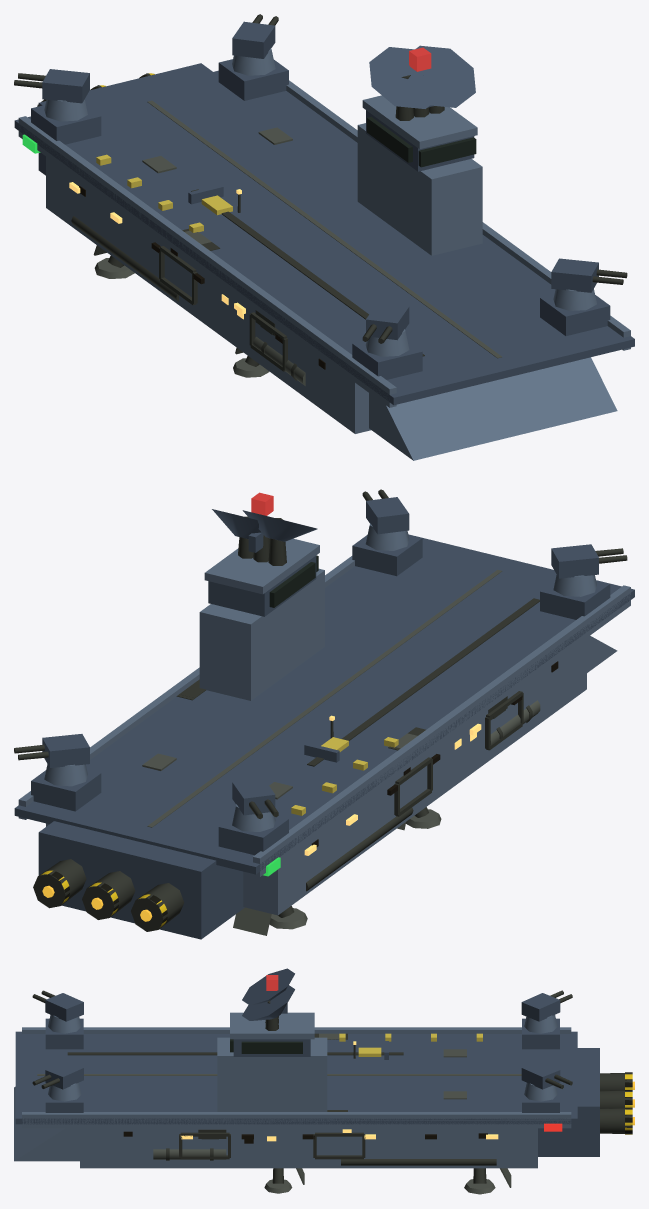
Rendered from carrier-s.glb.
3 renders of one model, top to bottom at view 1: azimuth 30°, elevation 25°; view 2: azimuth 150°, elevation 25°; view 3: azimuth 270°, elevation 25°, orthographic. The views are drawn at different scales.
Visible parts, largest first — view 1: flightDeck, hullBow, hullMain, hullNose, deckEdgeL, islandDish0, islandRoof, deckEdgeR, accentStripe, islandDish2, pdsSponson3, pdsSponson1 (+16 smaller); view 2: flightDeck, hullMain, hullStern, hullNose, deckEdgeL, engineHousing (×3), islandRoof, accentStripe, deckEdgeR, pdsSponson3, pdsSponson1, bridgeCab (+16 smaller); view 3: flightDeck, hullMain, deckEdgeR, hullNose, hullStern, deckEdgeL, hullBow, islandRoof, engineHousing (×3), carrierShiphullMainServicePipeR, islandDish0, islandDish2 (+18 smaller).
Boxes of the visible parts, <box> form: flightDeck: <box>14,70,634,405</box>; hullBow: <box>369,357,617,460</box>; hullMain: <box>46,156,371,433</box>; hullNose: <box>357,123,482,255</box>; deckEdgeL: <box>18,116,396,407</box>; islandDish0: <box>369,47,445,108</box>; islandRoof: <box>362,95,477,149</box>; deckEdgeR: <box>286,80,630,350</box>; accentStripe: <box>147,100,501,358</box>; islandDish2: <box>415,45,475,107</box>; pdsSponson3: <box>218,59,288,100</box>; pdsSponson1: <box>540,294,610,335</box>; flightDeck: <box>14,538,634,874</box>; hullMain: <box>46,638,586,915</box>; hullStern: <box>38,821,244,939</box>; hullNose: <box>199,568,324,700</box>; deckEdgeL: <box>253,585,630,876</box>; engineHousing (×3): <box>33,859,184,931</box>; islandRoof: <box>204,538,319,594</box>; accentStripe: <box>147,569,502,827</box>; deckEdgeR: <box>18,556,354,819</box>; pdsSponson3: <box>31,769,101,811</box>; pdsSponson1: <box>352,534,422,576</box>; bridgeCab: <box>208,556,316,616</box>; flightDeck: <box>15,1031,577,1124</box>; hullMain: <box>80,1128,537,1168</box>; deckEdgeR: <box>22,1112,571,1128</box>; hullNose: <box>217,1037,327,1111</box>; hullStern: <box>538,1048,599,1156</box>; deckEdgeL: <box>22,1027,571,1033</box>; hullBow: <box>14,1086,79,1161</box>; islandRoof: <box>230,1012,314,1039</box>; engineHousing (×3): <box>600,1073,632,1134</box>; carrierShiphullMainServicePipeR: <box>341,1159,496,1165</box>; islandDish0: <box>242,968,294,1005</box>; islandDish2: <box>242,985,294,1020</box>.
Size of the model in its own units: 2.97 by 3.01 by 8.14.
